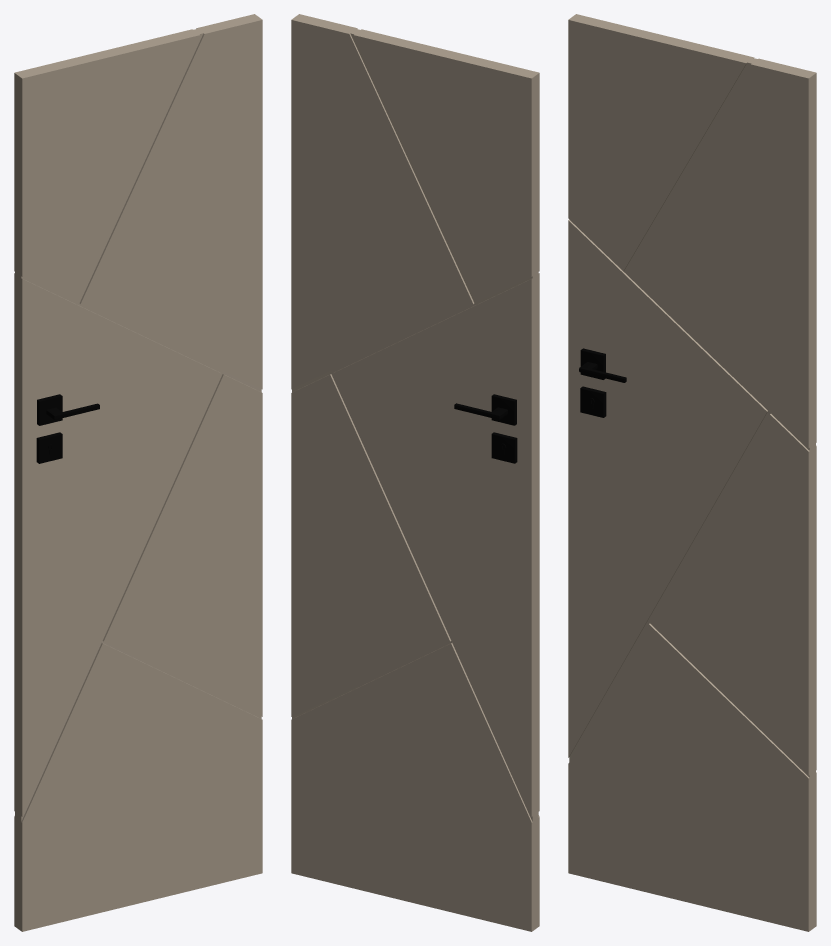
The model's file is SC_1_half_door.glb.
The picture shows the model from 3 angles, left to right: view 1: azimuth 30°, elevation 25°; view 2: azimuth 150°, elevation 25°; view 3: azimuth 330°, elevation 25°; orthographic projection.
Parts seen in each view (by area): view 1: RP_1__half_90_door__DT_32_1; view 2: RP_1__half_90_door__DT_32_1; view 3: RP_1__half_90_door__DT_32_1.
Part boxes in pixels (x1,y1,x2,y2): RP_1__half_90_door__DT_32_1: [14, 14, 262, 931]; RP_1__half_90_door__DT_32_1: [291, 14, 539, 931]; RP_1__half_90_door__DT_32_1: [568, 14, 816, 931].
Bounding box in the file's own units: 0.5172 × 1.75 × 0.1091.
Materials: 1 (1 with a texture image).
